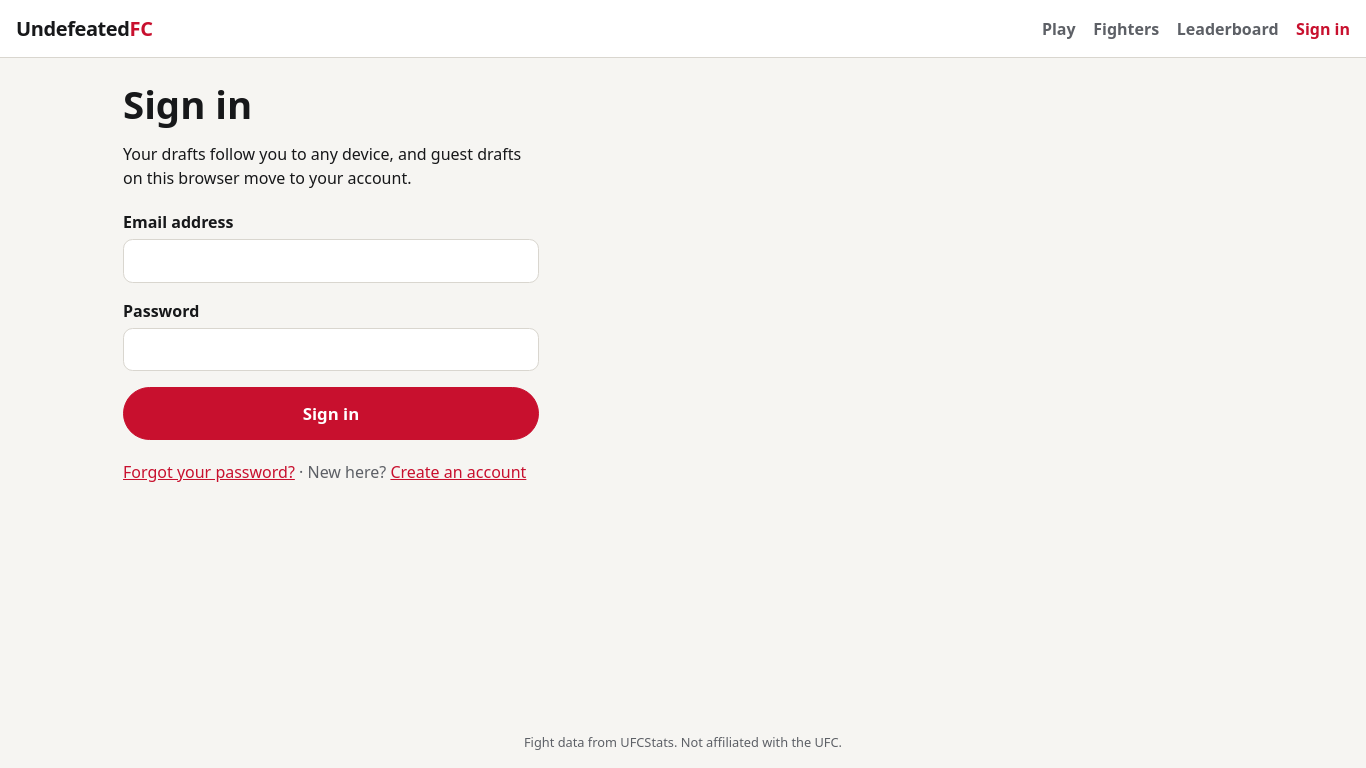
signing in shows the player in the header and goes home
The width and height of the screenshot is (1366, 768).
Type "one@example.com" into the field labelled "Email address" at (331, 261), box [123,239,539,283]
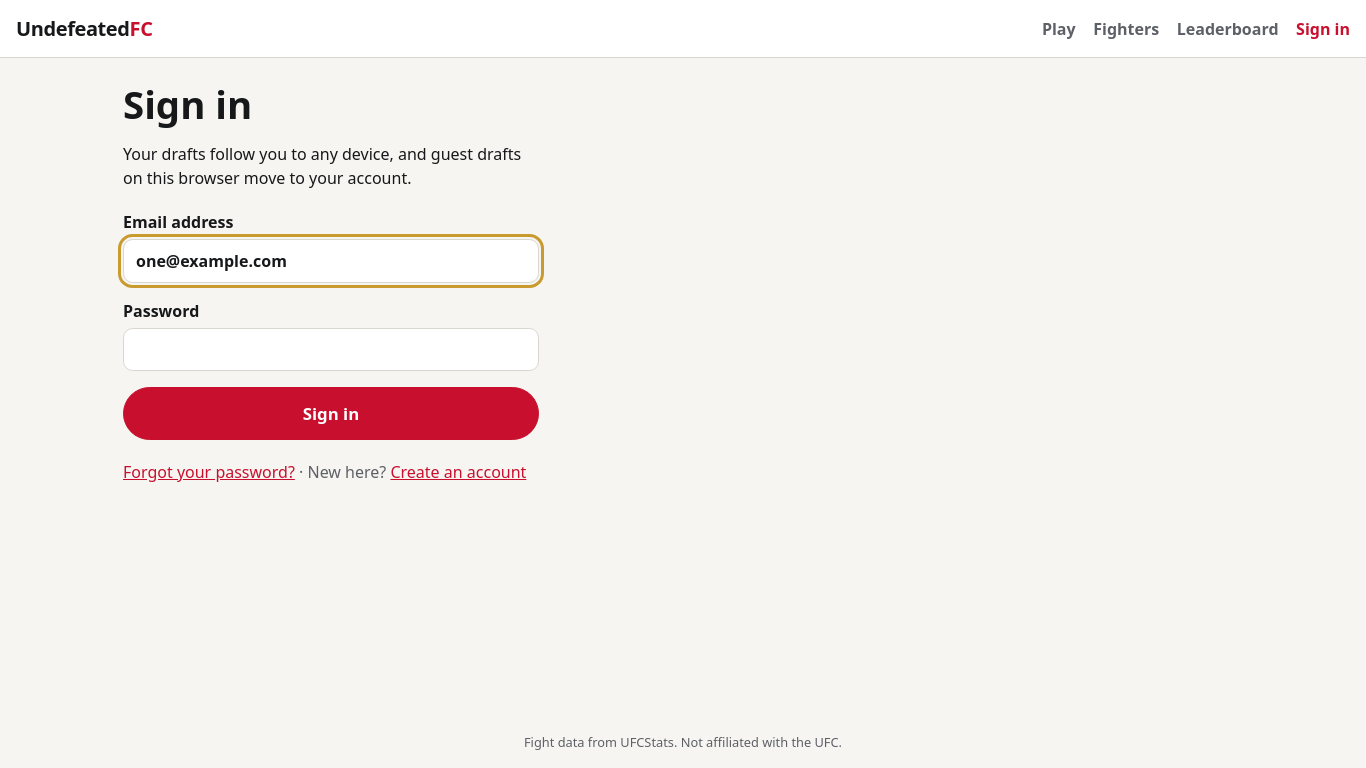
Type "password" into the password field labelled "Password" at (331, 349), box [123,328,539,371]
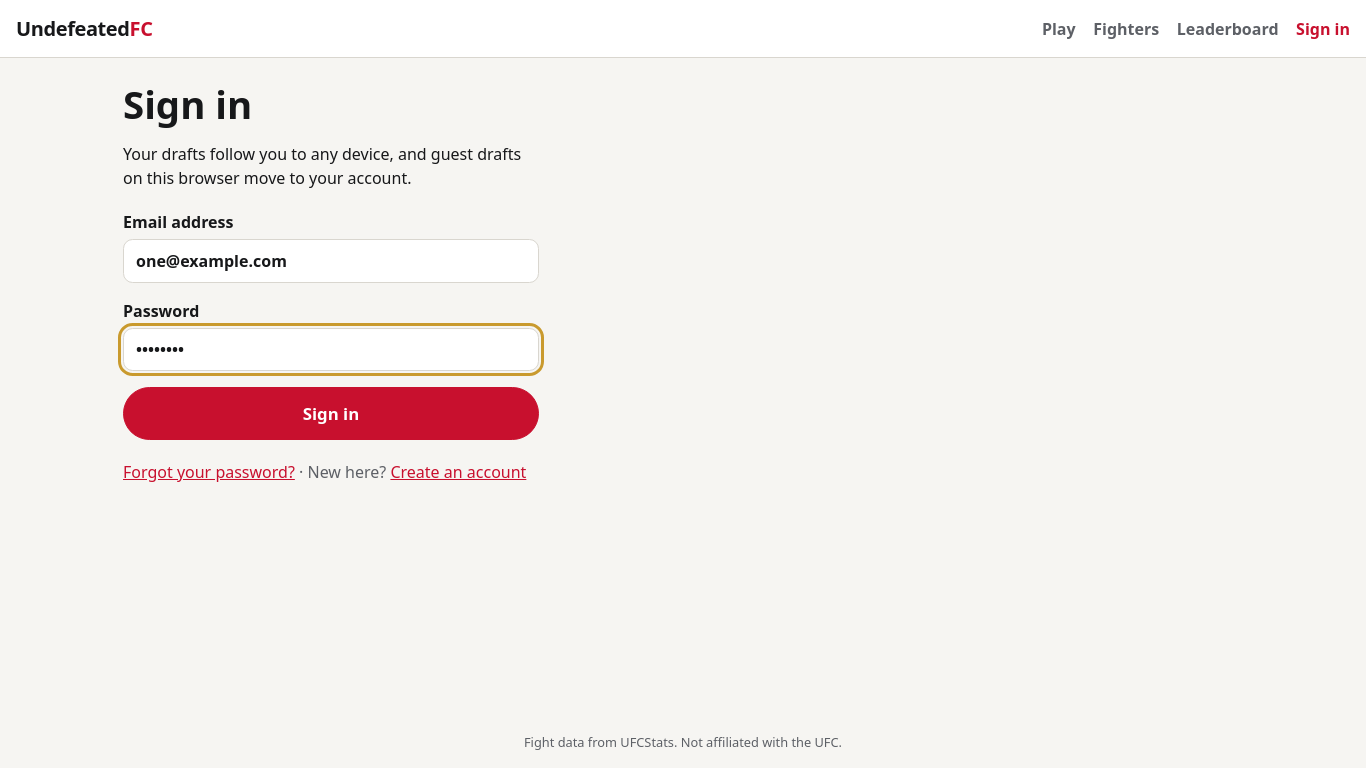
Click the button "Sign in" at (331, 414), box [123,387,539,440]
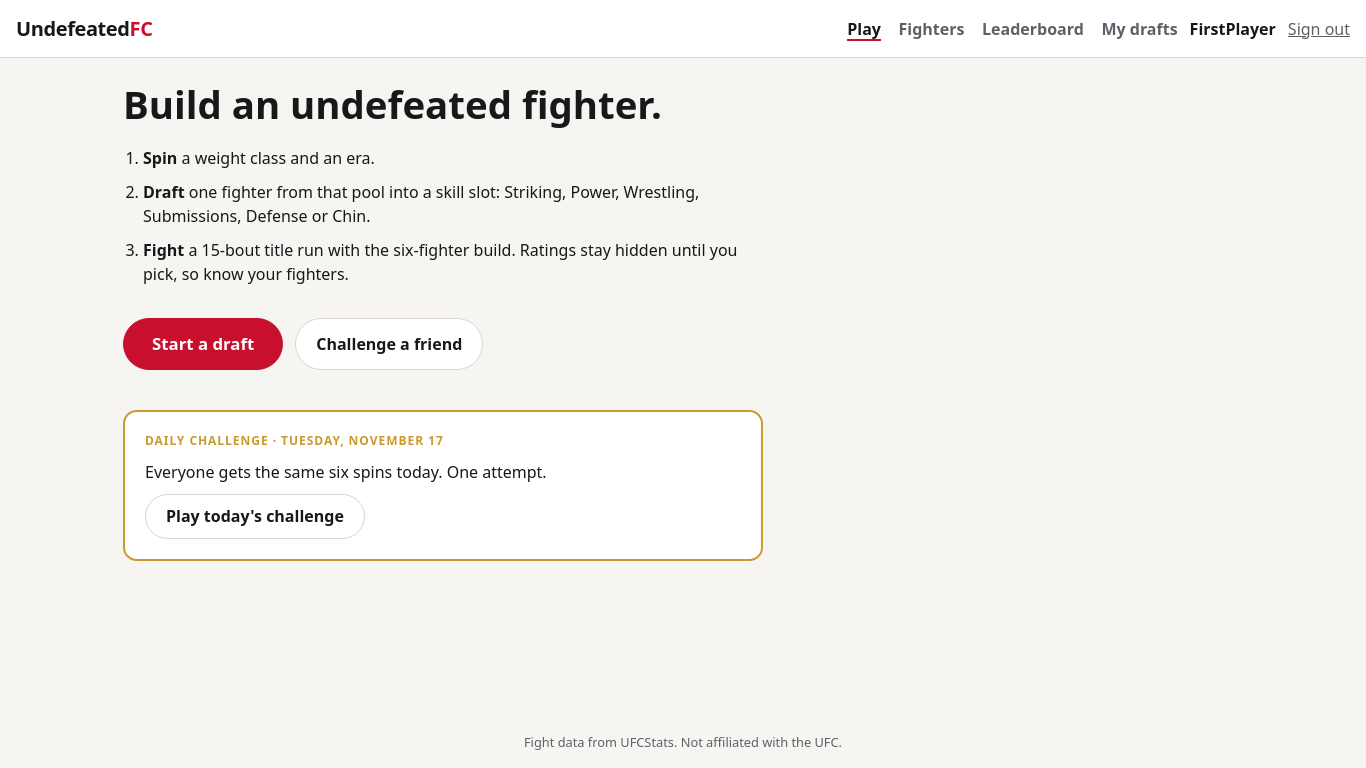
Now the text "FirstPlayer" is shown, box [1190,17,1276,41]
